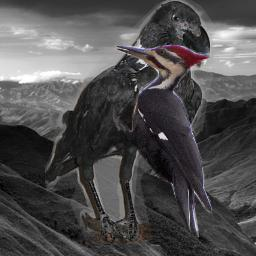Crow: (45, 0, 213, 244)
Woodpecker: (113, 45, 213, 237)
